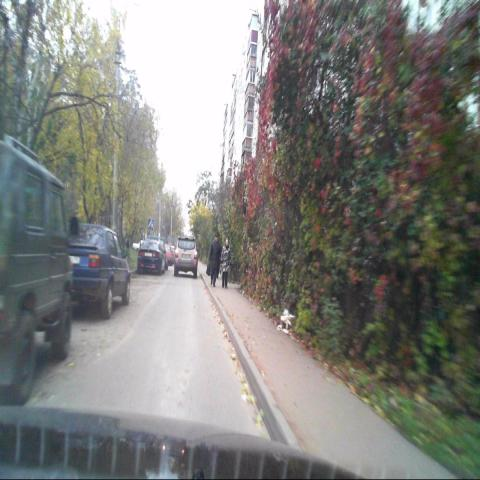5_19_1: (148, 218, 154, 229)
